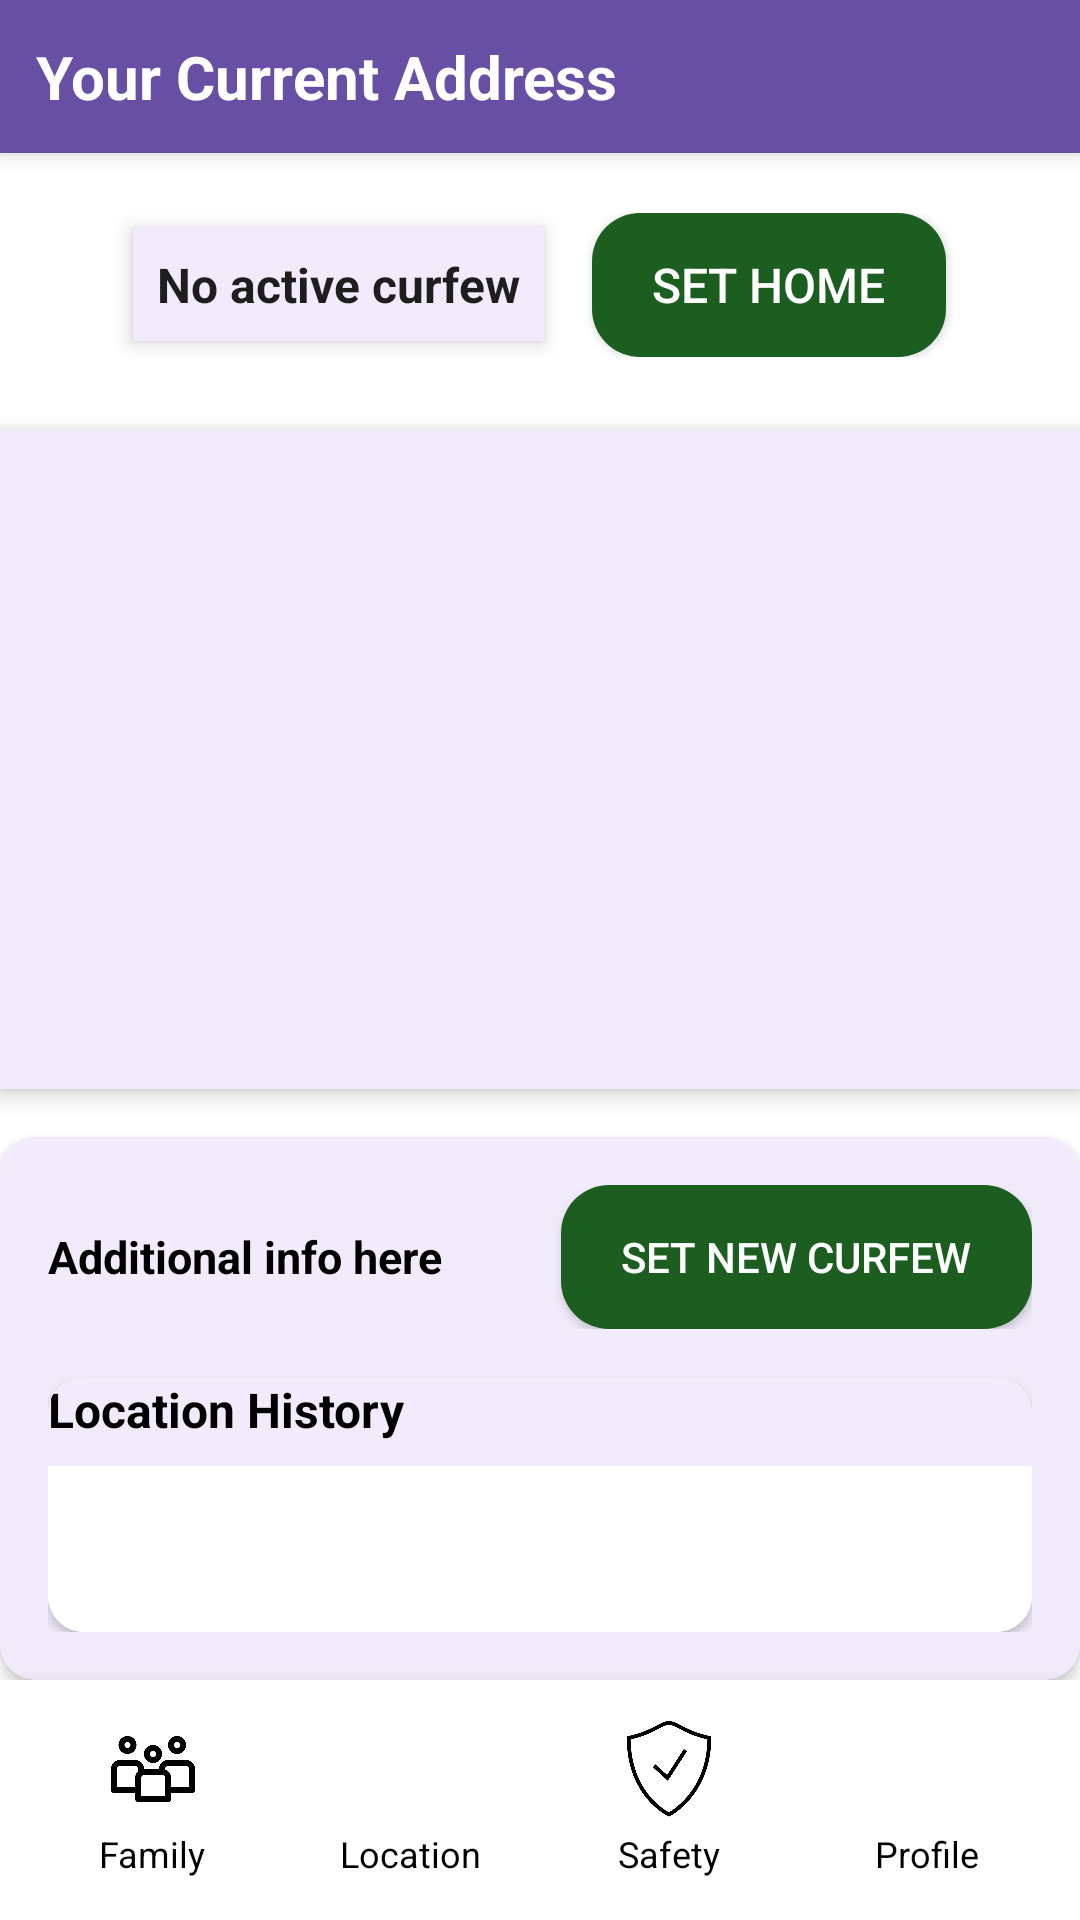

Named icons in this screenshot (1080 x 1920) and their bounding boxes, (x1, y1, x2, y2):
users group members team: (111, 1736, 195, 1802)
